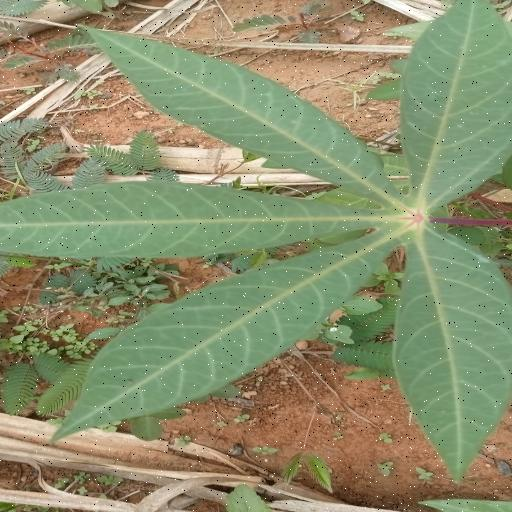Cassava_Healthy: (7, 0, 512, 475)
